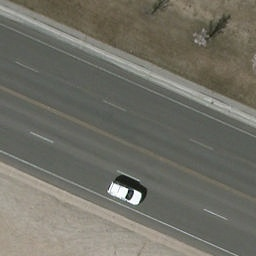car: (107, 182, 145, 209)
